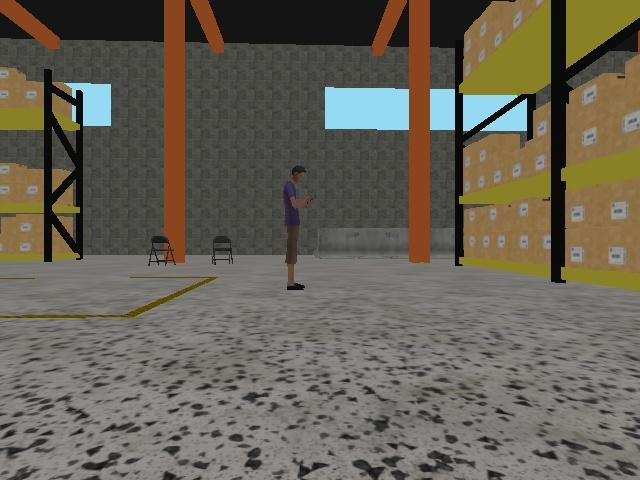chair: (147, 233, 178, 268), (211, 234, 236, 266)
person: (282, 163, 317, 292)
